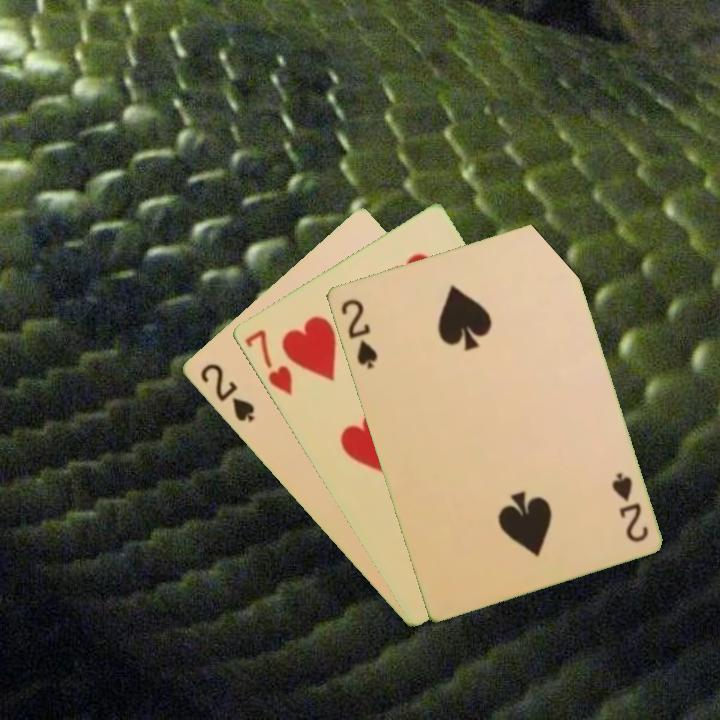2s: (196, 360, 257, 425), (336, 295, 380, 372), (607, 468, 651, 545)
7h: (240, 325, 295, 399)
